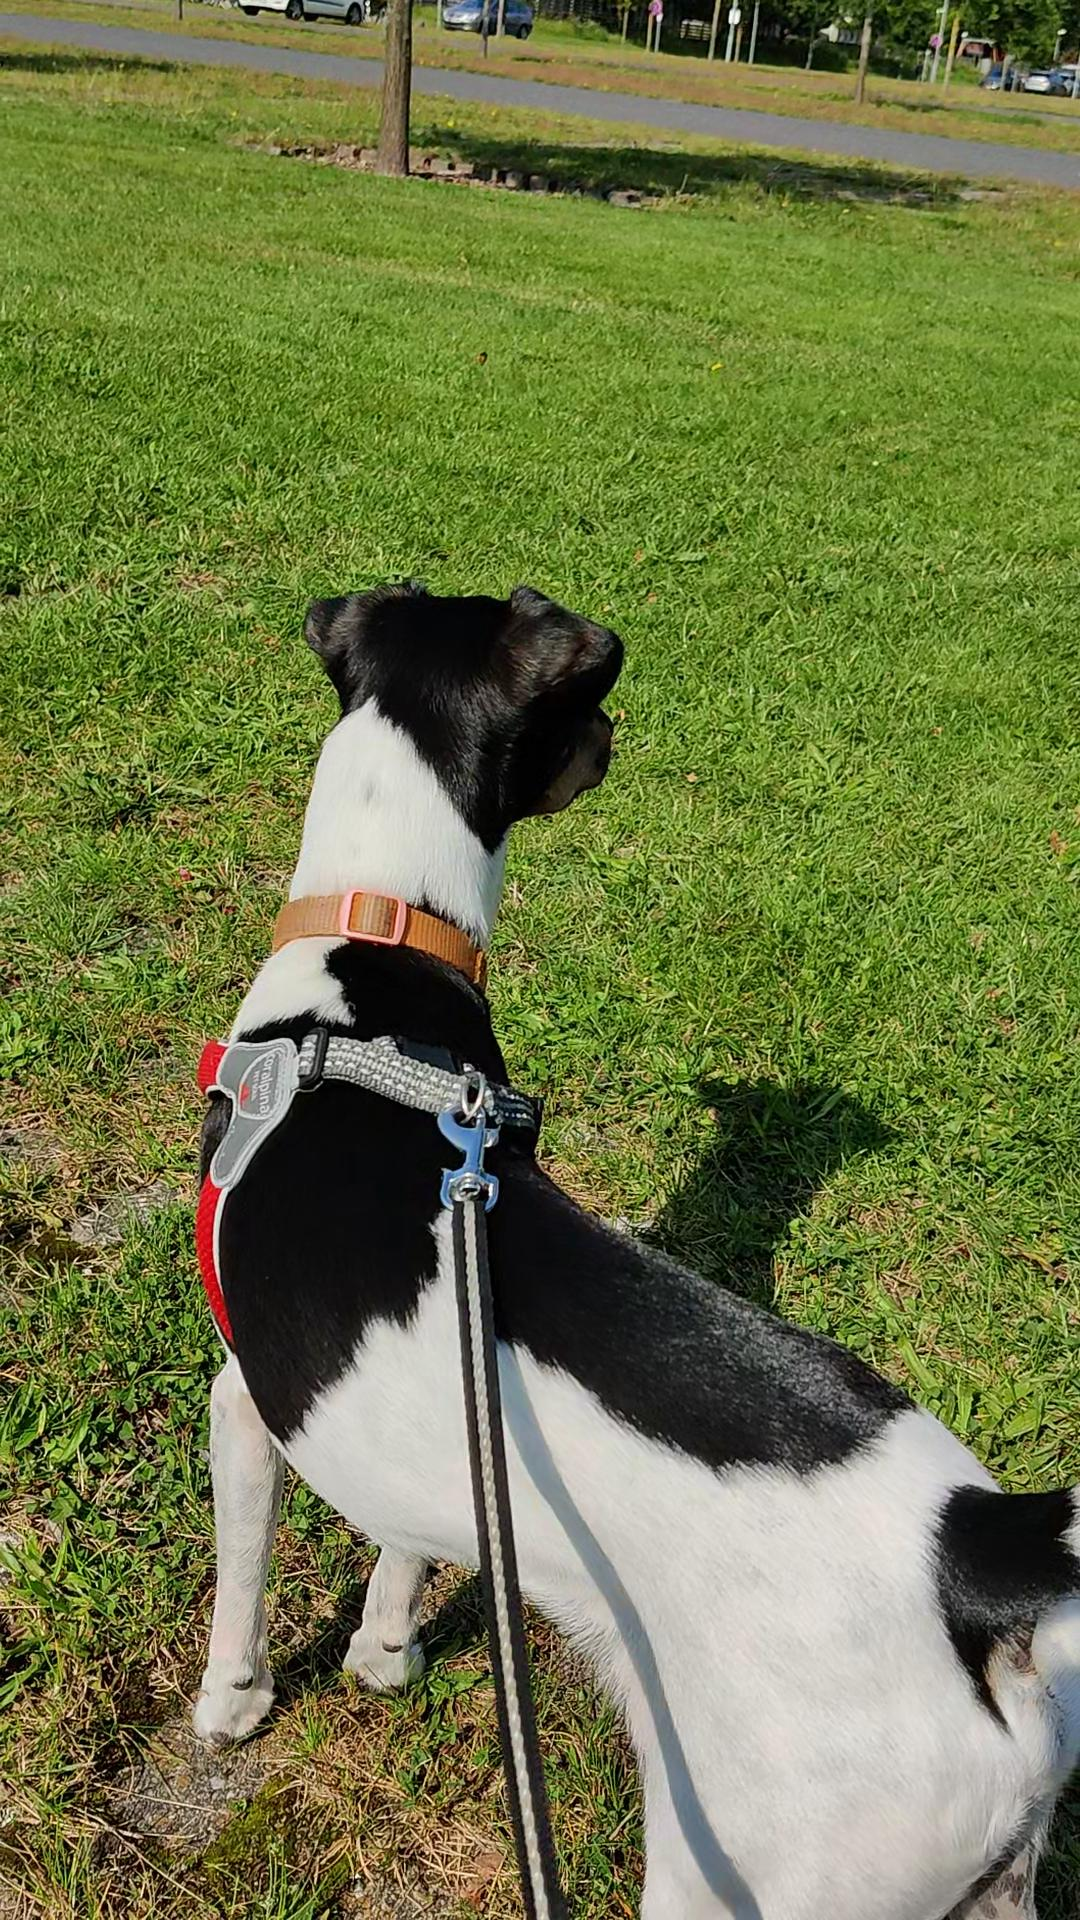Dog: (161, 564, 1079, 1919)
